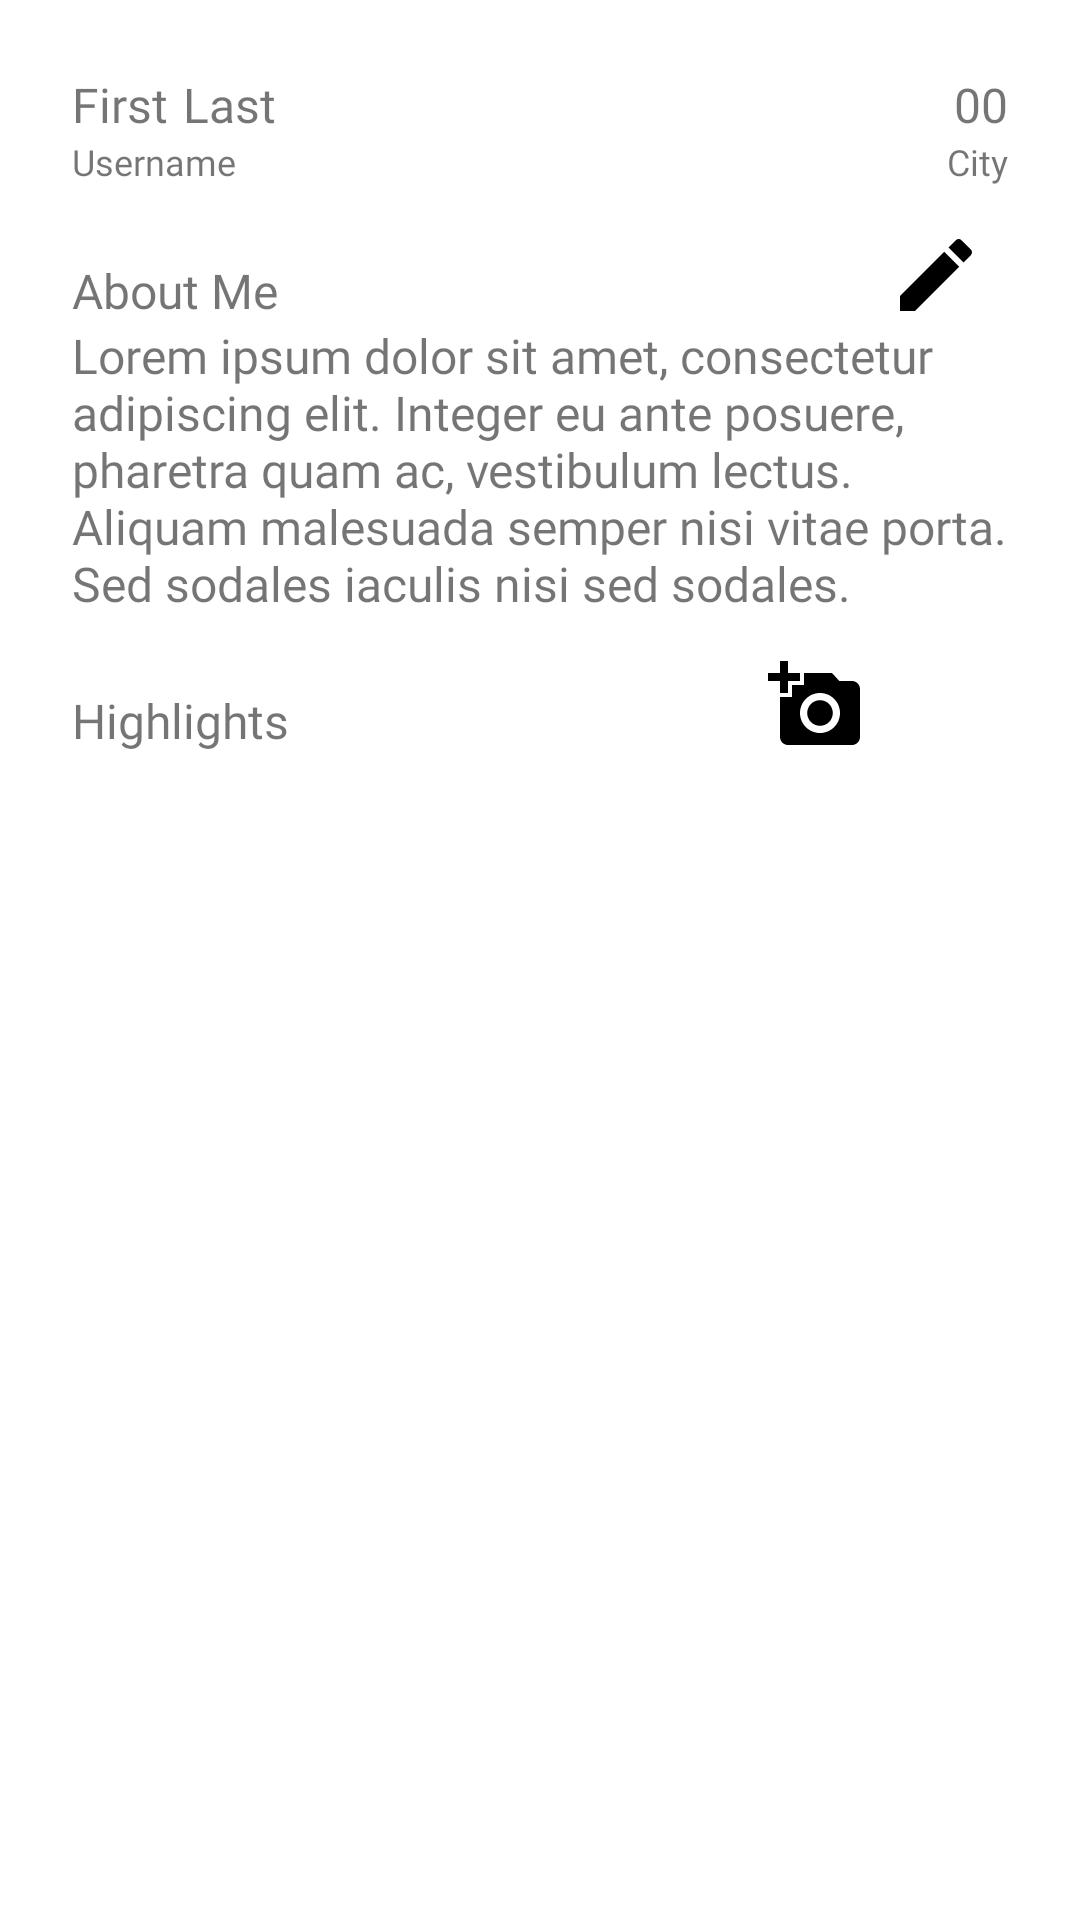

Point at icon controls on the screen. Image size 1080×1920, points as point (x, y).
add photo: point (814, 703)
edit: point (936, 275)
